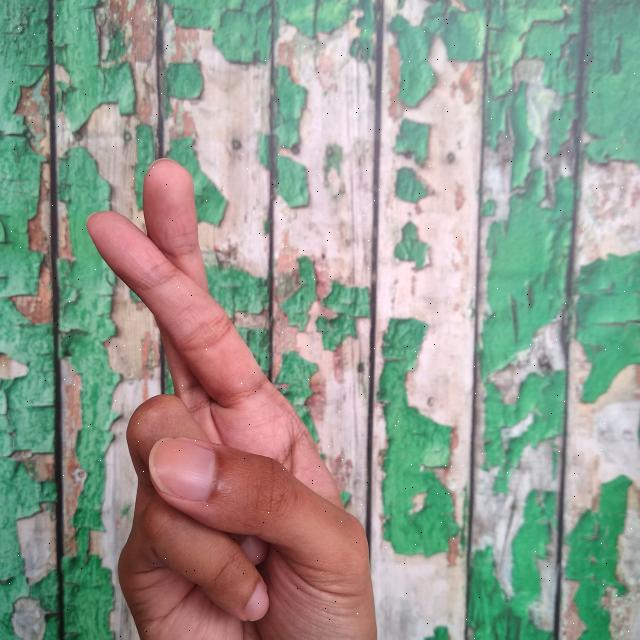R: (85, 150, 392, 640)
